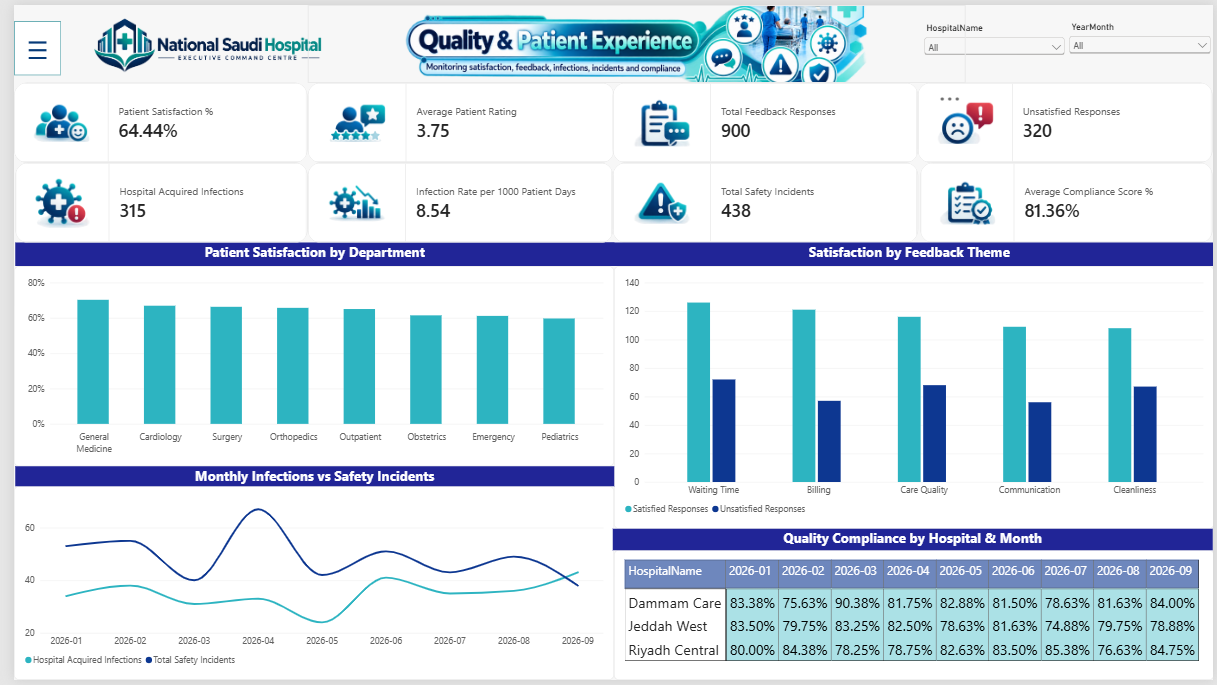

What the dashboard file says about the page in this screenshot:
{"tool":"powerbi","page":{"name":"Quality & Patient Experience","canvas":[1920,1080],"ordinal":5},"visuals":[{"type":"cardVisual","fields":{"Data":["tblPatientFeedback.Average Patient Rating"]},"box":[469.8,123.1,490.3,128.6],"z":0},{"type":"cardVisual","fields":{"Data":["tblPatientFeedback.Total Feedback Responses"]},"box":[958.3,123.1,488.5,128.6],"z":1000},{"type":"cardVisual","fields":{"Data":["tblPatientFeedback.Total Safety Incidents"]},"box":[958.3,251.7,488.5,128.6],"z":2000},{"type":"cardVisual","fields":{"Data":["tblPatientFeedback.Average Compliance Score %"]},"box":[1450.5,251.7,468,128.6],"z":3000},{"type":"cardVisual","fields":{"Data":["tblPatientFeedback.Unsatisfied Responses"]},"box":[1446.8,123.1,471.7,128.6],"z":4000},{"type":"cardVisual","title":"Monthly Patient Visits","fields":{"Data":["Claims.Patient Satisfaction %"]},"box":[0,123.1,469.8,128.6],"z":5000},{"type":"image","box":[98.7,0,423.5,128.5],"z":6000},{"type":"slicer","fields":{"Values":["tblHospitals.HospitalName"]},"box":[1451.3,29,233.4,106.8],"z":7000},{"type":"slicer","fields":{"Values":["DimDate.YearMonth"]},"box":[1684.7,25.3,235.3,86.9],"z":8000},{"type":"clusteredColumnChart","fields":{"Category":["tblDepartments.DepartmentName"],"Y":["Claims.Patient Satisfaction %"]},"box":[0,418,960,320],"z":9000},{"type":"clusteredColumnChart","fields":{"Category":["tblPatientFeedback.FeedbackTheme"],"Y":["tblPatientFeedback.Satisfied Responses","tblPatientFeedback.Unsatisfied Responses"]},"box":[960,418.3,960,420],"z":10000},{"type":"lineChart","fields":{"Category":["DimDate.YearMonth"],"Y":["tblPatientFeedback.Hospital Acquired Infections","tblPatientFeedback.Total Safety Incidents"]},"box":[0,770,960.2,309.5],"z":11000},{"type":"pivotTable","fields":{"Columns":["DimDate.YearMonth"],"Rows":["tblHospitals.HospitalName"],"Values":["tblPatientFeedback.Average Compliance Score %"]},"box":[960,872,960,208],"z":12000},{"type":"textbox","box":[1.9,380.3,958.3,37.3],"z":13000},{"type":"textbox","box":[945.3,380.3,973.2,37.3],"z":14000},{"type":"textbox","box":[1.9,738.3,958.3,31.7],"z":15000},{"type":"textbox","box":[958,838,960,34],"z":16000},{"type":"cardVisual","title":"Monthly Patient Visits","fields":{"Data":["tblPatientFeedback.Infection Rate per 1000 Patient Days"]},"box":[469.8,251.7,488.5,128.6],"z":17000},{"type":"cardVisual","title":"Monthly Patient Visits","fields":{"Data":["tblPatientFeedback.Hospital Acquired Infections"]},"box":[1.9,251.7,468,128.6],"z":18000},{"type":"image","box":[470.1,0,1052,124],"z":19000},{"type":"shape","box":[0,26.6,75.5,86.5],"z":21000}]}

Visuals, with their boxes in screenshot pixels (x1, y1, x2, y2), scaled from the page's 1920x1080 canvas onto the 1217x685 screenshot:
cardVisual - tblPatientFeedback.Average Patient Rating: l=298, t=78, r=609, b=160
cardVisual - tblPatientFeedback.Total Feedback Responses: l=607, t=78, r=917, b=160
cardVisual - tblPatientFeedback.Total Safety Incidents: l=607, t=160, r=917, b=241
cardVisual - tblPatientFeedback.Average Compliance Score %: l=919, t=160, r=1216, b=241
cardVisual - tblPatientFeedback.Unsatisfied Responses: l=917, t=78, r=1216, b=160
"Monthly Patient Visits" cardVisual: l=0, t=78, r=298, b=160
image: l=63, t=0, r=331, b=82
slicer - tblHospitals.HospitalName: l=920, t=18, r=1068, b=86
slicer - DimDate.YearMonth: l=1068, t=16, r=1216, b=71
clusteredColumnChart - tblDepartments.DepartmentName x Claims.Patient Satisfaction %: l=0, t=265, r=608, b=468
clusteredColumnChart - tblPatientFeedback.FeedbackTheme x tblPatientFeedback.Satisfied Responses: l=608, t=265, r=1216, b=532
lineChart - DimDate.YearMonth x tblPatientFeedback.Hospital Acquired Infections: l=0, t=488, r=609, b=684
pivotTable - DimDate.YearMonth x tblHospitals.HospitalName: l=608, t=553, r=1216, b=684
textbox: l=1, t=241, r=609, b=265
textbox: l=599, t=241, r=1216, b=265
textbox: l=1, t=468, r=609, b=488
textbox: l=607, t=532, r=1216, b=553
"Monthly Patient Visits" cardVisual: l=298, t=160, r=607, b=241
"Monthly Patient Visits" cardVisual: l=1, t=160, r=298, b=241
image: l=298, t=0, r=965, b=79
shape: l=0, t=17, r=48, b=72
